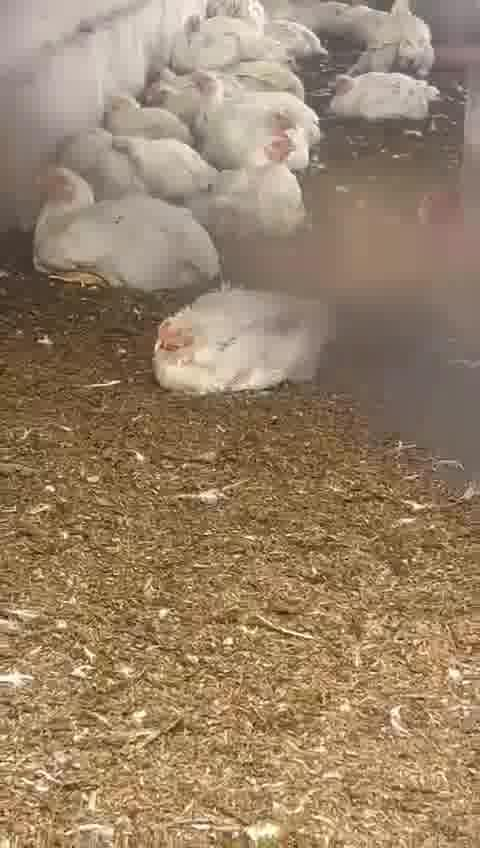AbNormal: (142, 282, 334, 400), (69, 126, 210, 200), (93, 86, 194, 148), (146, 53, 212, 103), (187, 15, 247, 62)
Normal: (32, 166, 222, 300), (187, 69, 300, 156), (207, 138, 312, 230), (318, 62, 440, 131)
